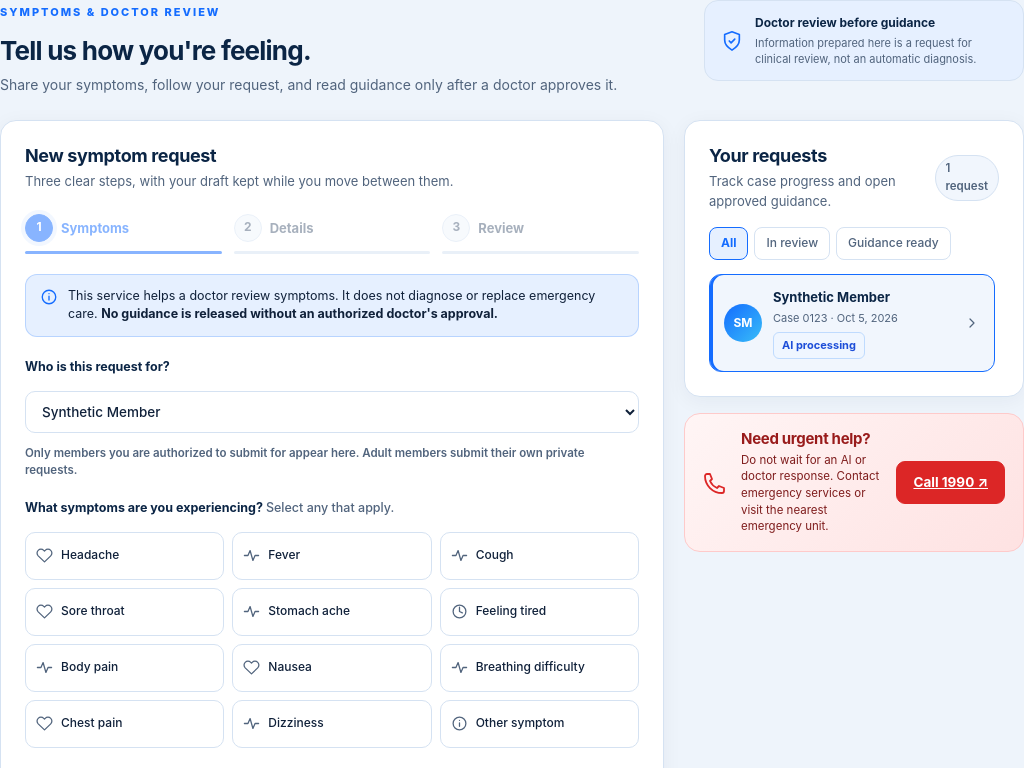
Test: patient request popup › requires withdrawal confirmation and keeps the original audit history wording
Click the button "SM Synthetic Member Case 0123 · Oct 5, 2026 AI processing": (852, 323) top-left (709, 274), bottom-right (995, 372)
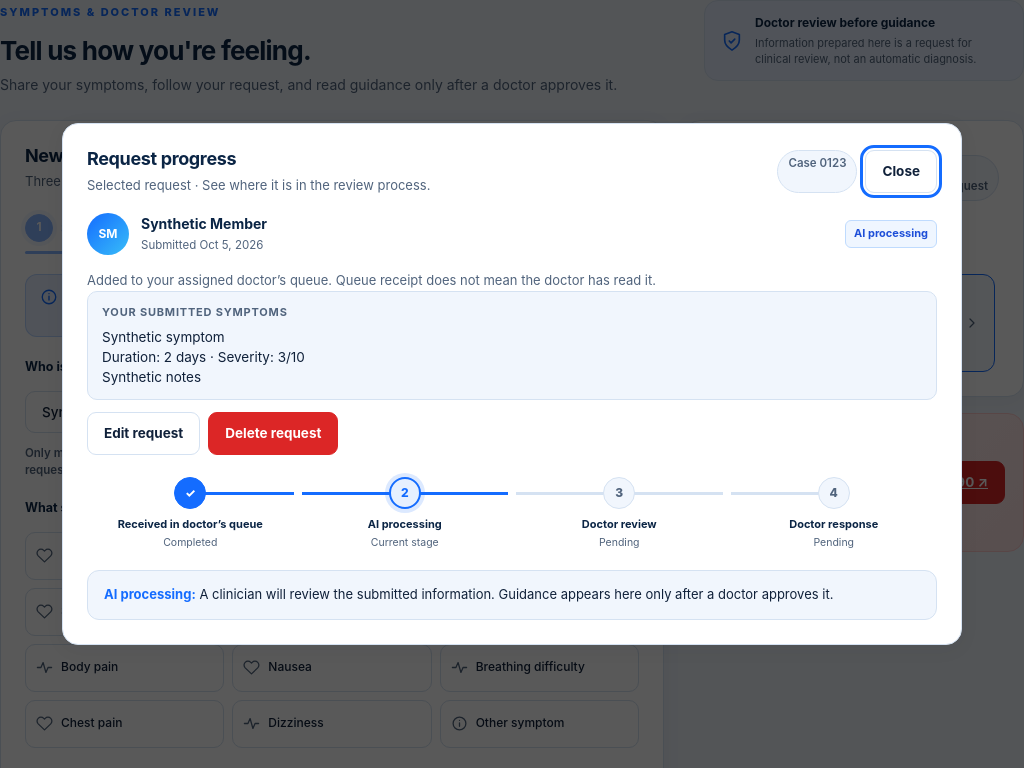
Click the button "Delete request": (273, 434) top-left (208, 412), bottom-right (338, 455)
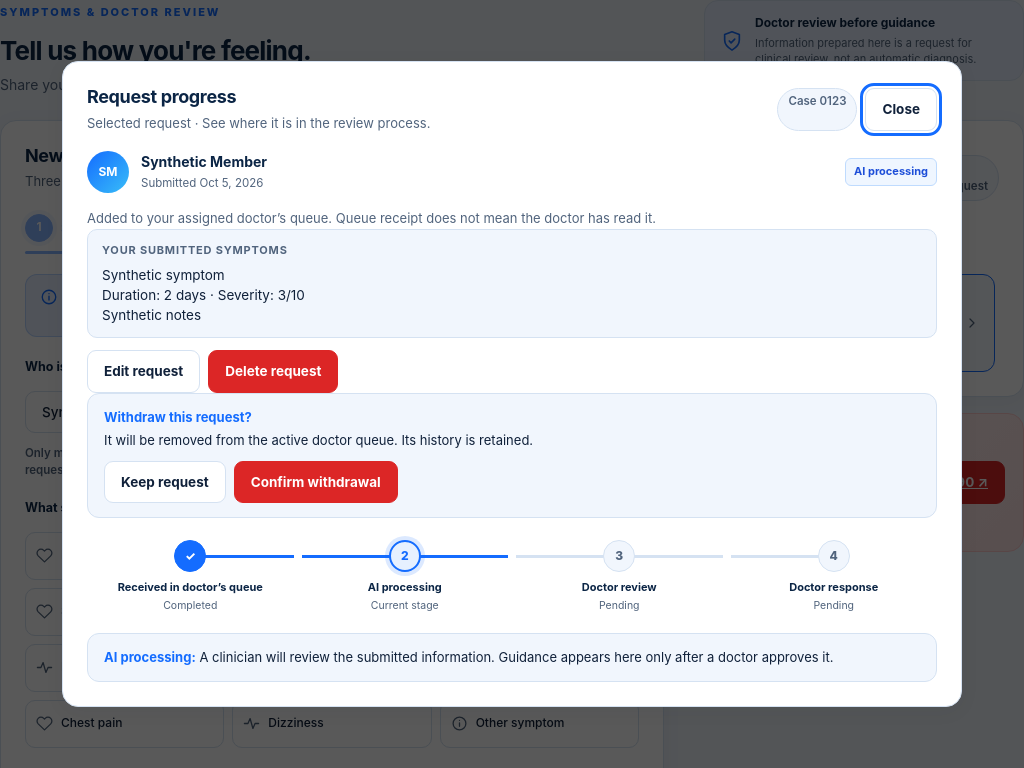
Click the button "Keep request": (165, 482) top-left (104, 461), bottom-right (226, 503)
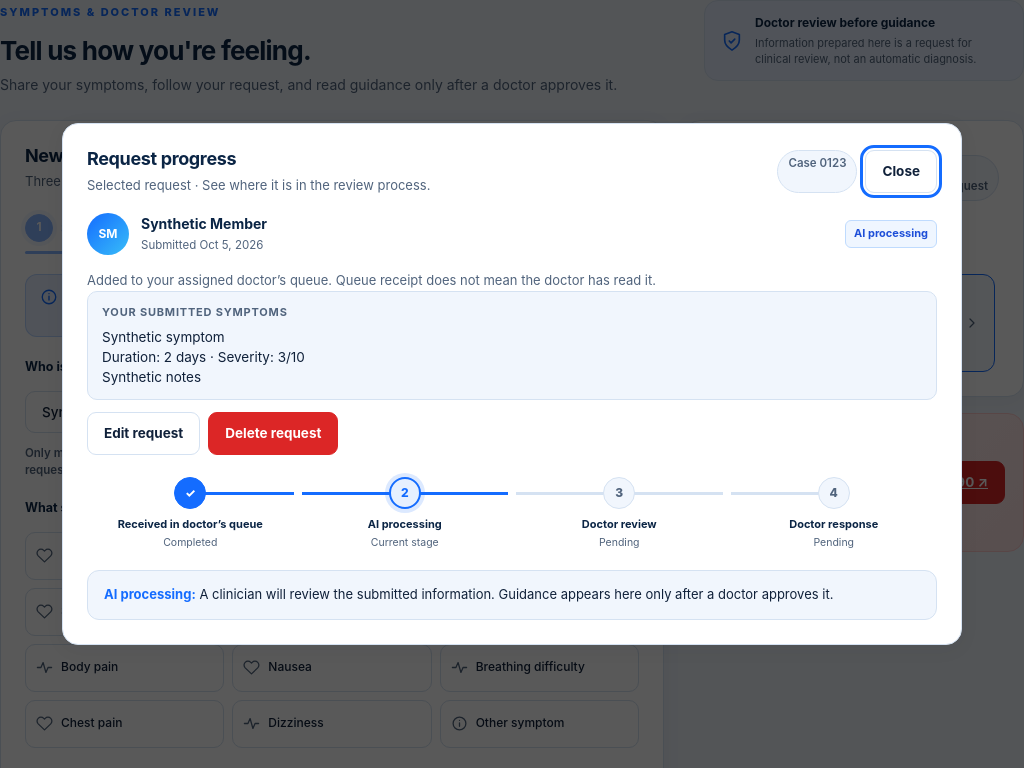
Click the button "Delete request": (273, 434) top-left (208, 412), bottom-right (338, 455)
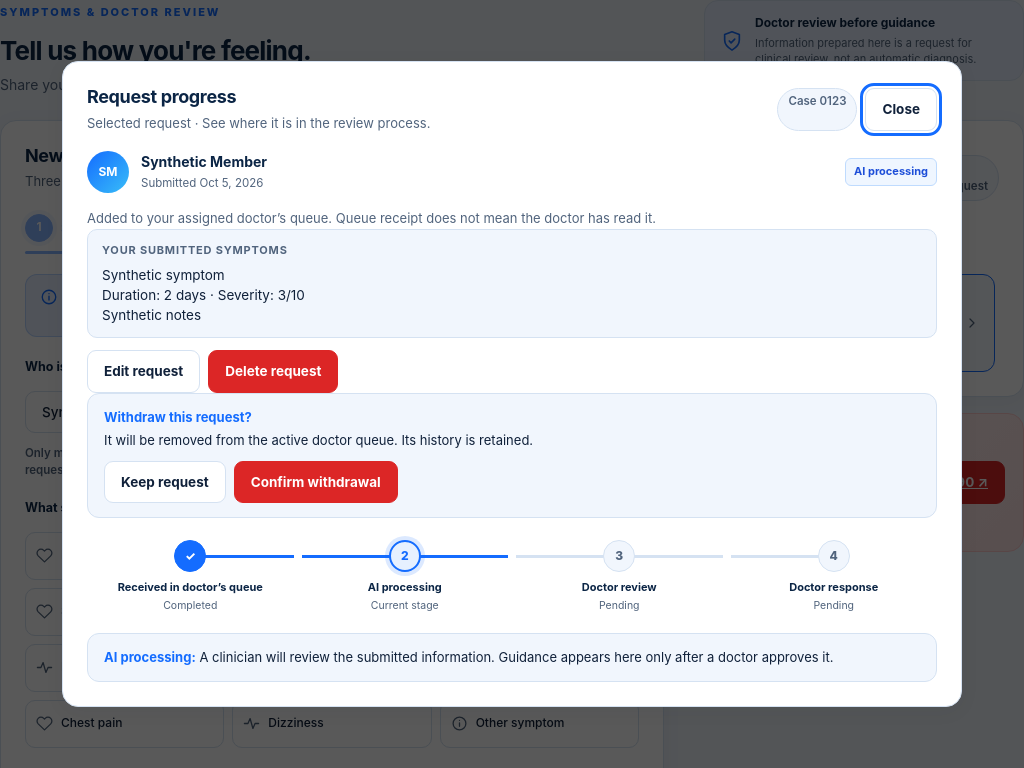
Click the button "Confirm withdrawal": (316, 482) top-left (234, 461), bottom-right (398, 503)
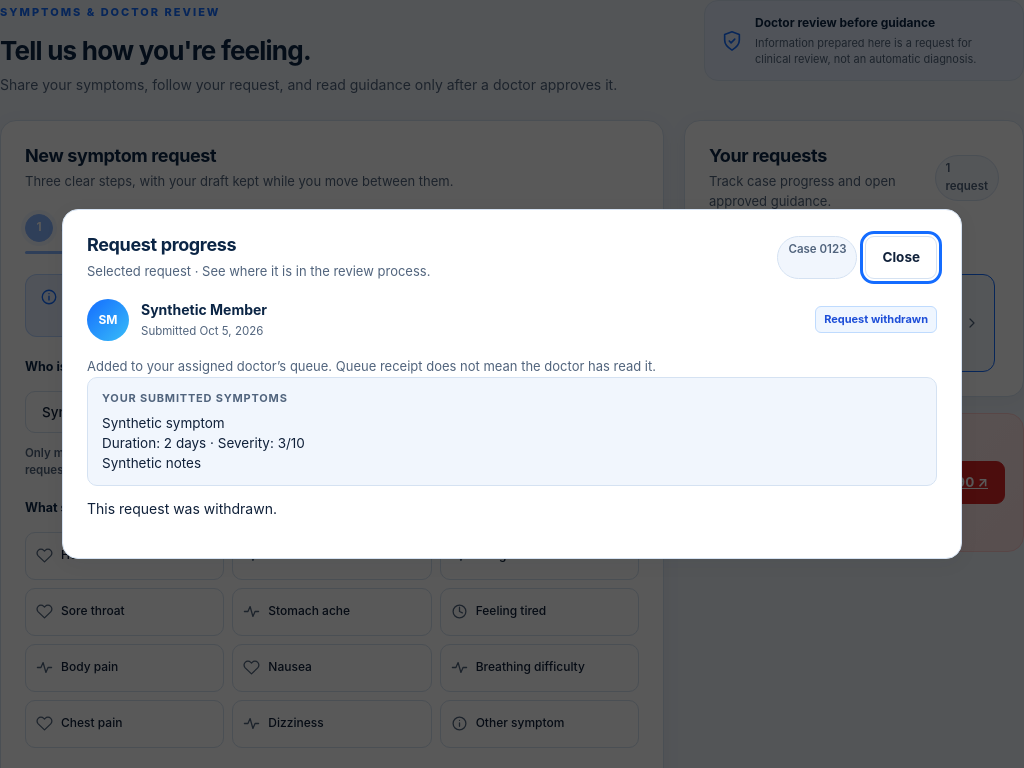
Now the text "This request was withdrawn." is shown, box top-left (87, 500), bottom-right (277, 517)
